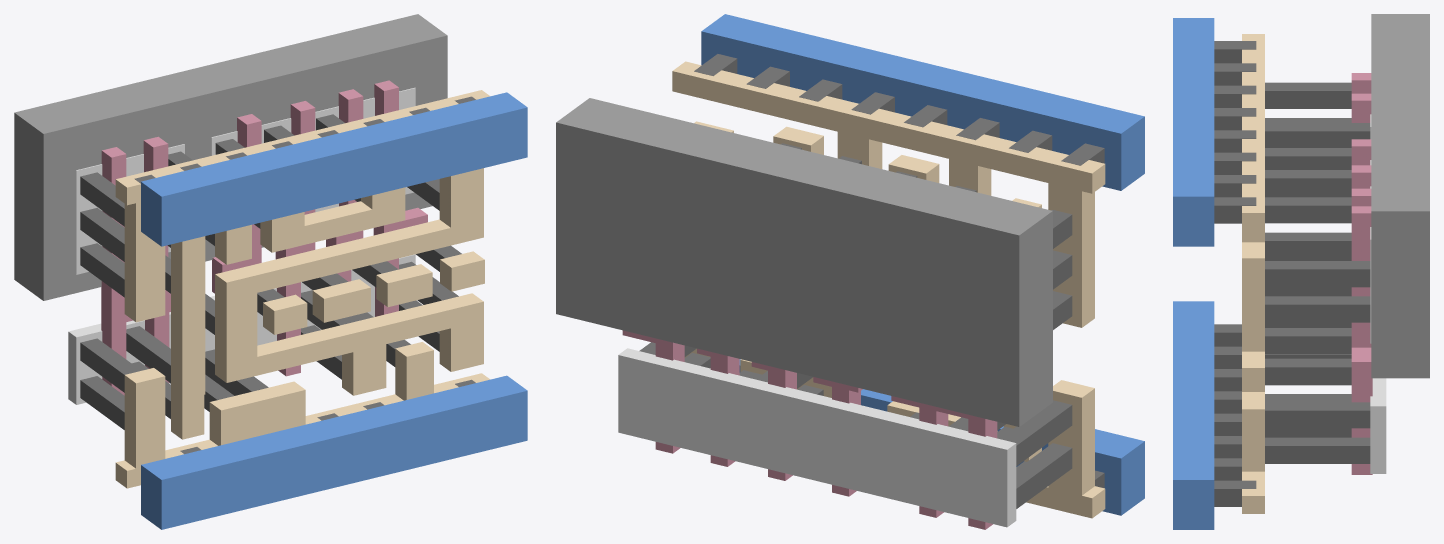
The model's file is sky130_fd_sc_hd__a211o_2.gds.gltf.
3 renders of one model, left to right at view 1: azimuth 30°, elevation 25°; view 2: azimuth 150°, elevation 25°; view 3: azimuth 270°, elevation 25°, orthographic. The views are drawn at different scales.
Parts seen in each view (by area): view 1: sky130_fd_sc_hd__a211o_2_li1, sky130_fd_sc_hd__a211o_2_met1, sky130_fd_sc_hd__a211o_2_nwell, sky130_fd_sc_hd__a211o_2_licon, sky130_fd_sc_hd__a211o_2_poly, sky130_fd_sc_hd__a211o_2_diff, sky130_fd_sc_hd__a211o_2_mcon; view 2: sky130_fd_sc_hd__a211o_2_nwell, sky130_fd_sc_hd__a211o_2_diff, sky130_fd_sc_hd__a211o_2_li1, sky130_fd_sc_hd__a211o_2_met1, sky130_fd_sc_hd__a211o_2_licon, sky130_fd_sc_hd__a211o_2_mcon, sky130_fd_sc_hd__a211o_2_poly; view 3: sky130_fd_sc_hd__a211o_2_licon, sky130_fd_sc_hd__a211o_2_nwell, sky130_fd_sc_hd__a211o_2_met1, sky130_fd_sc_hd__a211o_2_mcon, sky130_fd_sc_hd__a211o_2_li1, sky130_fd_sc_hd__a211o_2_poly, sky130_fd_sc_hd__a211o_2_diff.
Boxes of the visible parts, x1,y1,x2,y2 form: sky130_fd_sc_hd__a211o_2_li1: [115, 90, 489, 488]; sky130_fd_sc_hd__a211o_2_met1: [141, 92, 527, 529]; sky130_fd_sc_hd__a211o_2_nwell: [14, 14, 447, 300]; sky130_fd_sc_hd__a211o_2_licon: [80, 114, 461, 429]; sky130_fd_sc_hd__a211o_2_poly: [101, 80, 427, 395]; sky130_fd_sc_hd__a211o_2_diff: [68, 87, 415, 404]; sky130_fd_sc_hd__a211o_2_mcon: [134, 96, 475, 453]; sky130_fd_sc_hd__a211o_2_nwell: [556, 98, 1052, 426]; sky130_fd_sc_hd__a211o_2_diff: [618, 348, 1016, 527]; sky130_fd_sc_hd__a211o_2_li1: [672, 61, 1105, 518]; sky130_fd_sc_hd__a211o_2_met1: [701, 14, 1144, 515]; sky130_fd_sc_hd__a211o_2_licon: [639, 143, 1072, 508]; sky130_fd_sc_hd__a211o_2_mcon: [694, 54, 1104, 488]; sky130_fd_sc_hd__a211o_2_poly: [622, 330, 997, 529]; sky130_fd_sc_hd__a211o_2_licon: [1265, 82, 1370, 463]; sky130_fd_sc_hd__a211o_2_nwell: [1371, 14, 1429, 378]; sky130_fd_sc_hd__a211o_2_met1: [1173, 18, 1214, 529]; sky130_fd_sc_hd__a211o_2_mcon: [1214, 41, 1256, 506]; sky130_fd_sc_hd__a211o_2_li1: [1242, 34, 1264, 513]; sky130_fd_sc_hd__a211o_2_poly: [1351, 73, 1372, 474]; sky130_fd_sc_hd__a211o_2_diff: [1370, 114, 1386, 473].
Size of the model in its own units: 4.06 by 3.2 by 2.24.
